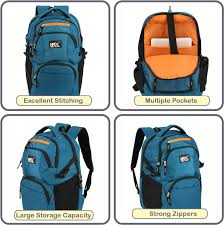backpack: (132, 7, 208, 96), (18, 122, 93, 210), (130, 124, 203, 209), (24, 6, 86, 96)
